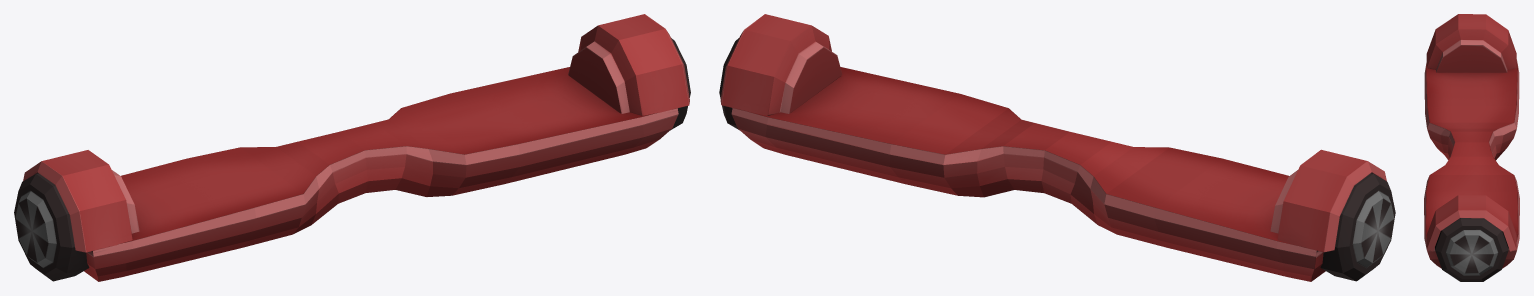
File: Hoverboard.obj
3 renders of one model, left to right at view 1: azimuth 30°, elevation 25°; view 2: azimuth 150°, elevation 25°; view 3: azimuth 270°, elevation 25°, orthographic. The views are drawn at different scales.
Parts seen in each view (by area): view 1: Hoverboard_mesh; view 2: Hoverboard_mesh; view 3: Hoverboard_mesh.
Boxes of the visible parts, x1,y1,x2,y2 form: Hoverboard_mesh: [14, 14, 690, 281]; Hoverboard_mesh: [719, 14, 1395, 281]; Hoverboard_mesh: [1424, 14, 1519, 281].
Size of the model in its own units: 15.2 by 2.38 by 2.95.
Materials: 1 (1 with a texture image).
